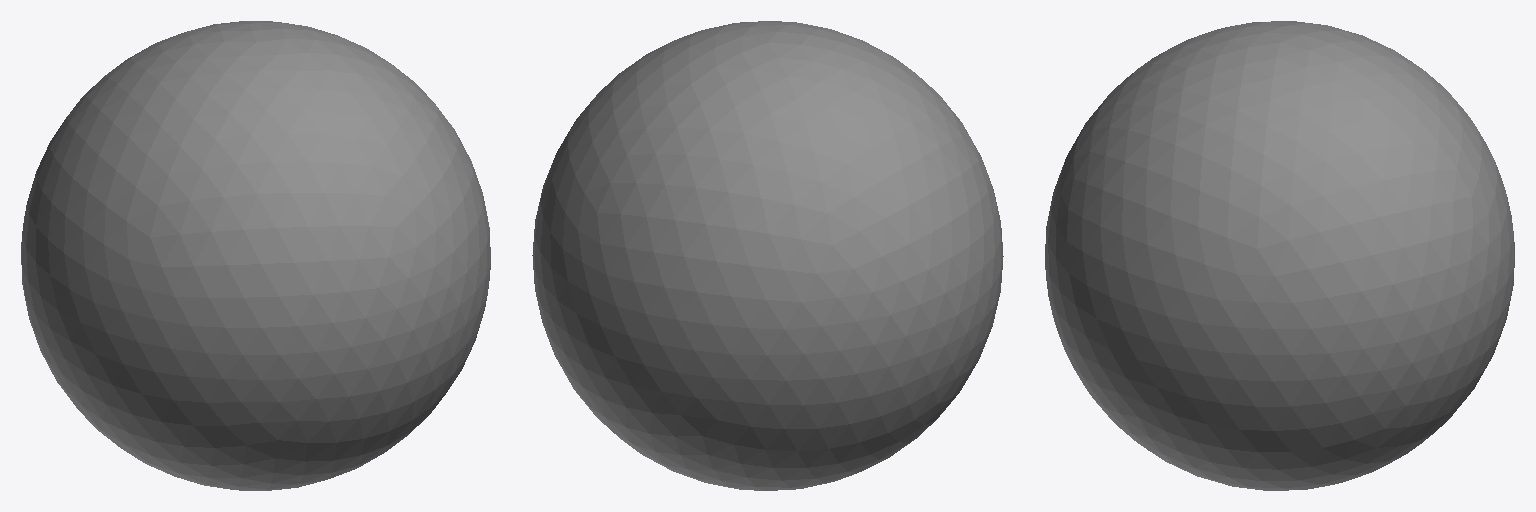
Rendered from esfera_h.obj.
The picture shows the model from 3 angles: view 1: azimuth 30°, elevation 25°; view 2: azimuth 150°, elevation 25°; view 3: azimuth 270°, elevation 25°; orthographic projection.
Parts seen in each view (by area): view 1: GeoSphere001; view 2: GeoSphere001; view 3: GeoSphere001.
Part boxes in pixels (bbox=[...]): GeoSphere001: bbox=[21, 21, 490, 490]; GeoSphere001: bbox=[532, 21, 1003, 490]; GeoSphere001: bbox=[1045, 21, 1514, 490].
Bounding box in the file's own units: 8.59 × 8.6 × 8.59.